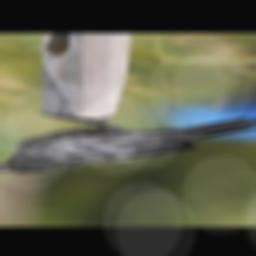Crow: (0, 109, 256, 174)
